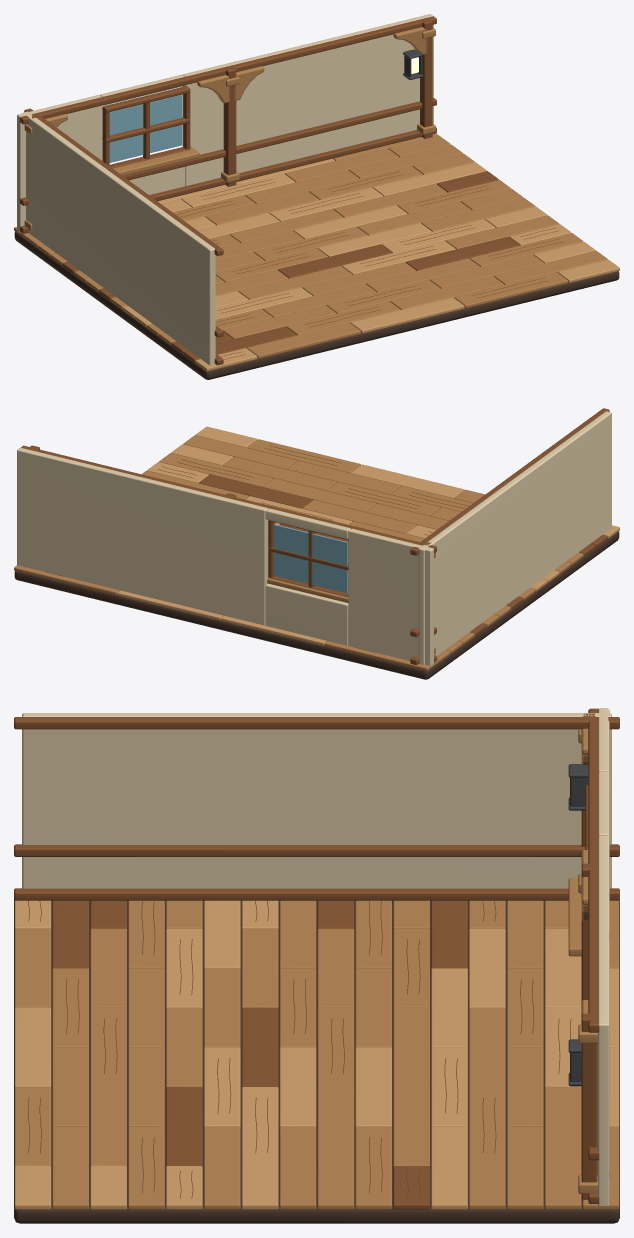
Rendered from home_shell.glb.
3 views of the same model, one above another, from view 1: azimuth 30°, elevation 25°; view 2: azimuth 150°, elevation 25°; view 3: azimuth 270°, elevation 25° (orthographic). The views are drawn at different scales.
Visible parts, largest first — view 1: left plaster wall, wall beside window.001, foundation, back timber molding.002, window night glass, wall beside window, back timber molding.001, back timber molding, individual oak floorboard.069, individual oak floorboard.070, individual oak floorboard.068, individual oak floorboard.039 (+58 smaller); view 2: wall beside window.001, left plaster wall, wall beside window, foundation, wall below above window, window night glass, back timber molding.002, individual oak floorboard.065, individual oak floorboard.051, individual oak floorboard.056, individual oak floorboard.060, individual oak floorboard.069 (+21 smaller); view 3: left plaster wall, foundation, left timber molding.002, left timber molding, left timber molding.001, wall beside window.001, back timber molding.002, individual oak floorboard.039, individual oak floorboard.012, individual oak floorboard.030, individual oak floorboard.048, individual oak floorboard.066 (+71 smaller).
Boxes of the visible parts, left/top/right/bottom form: left plaster wall: left=22, top=111, right=215, bottom=365; wall beside window.001: left=182, top=14, right=433, bottom=185; foundation: left=14, top=231, right=619, bottom=379; back timber molding.002: left=20, top=16, right=436, bottom=124; window night glass: left=109, top=94, right=182, bottom=162; wall beside window: left=17, top=95, right=102, bottom=232; back timber molding.001: left=20, top=98, right=436, bottom=205; back timber molding: left=20, top=127, right=436, bottom=233; individual oak floorboard.069: left=350, top=297, right=464, bottom=333; individual oak floorboard.070: left=454, top=272, right=568, bottom=308; individual oak floorboard.068: left=247, top=322, right=360, bottom=358; individual oak floorboard.039: left=421, top=197, right=535, bottom=231; wall beside window.001: left=17, top=447, right=268, bottom=625; left plaster wall: left=418, top=411, right=611, bottom=664; wall beside window: left=348, top=528, right=433, bottom=666; foundation: left=14, top=531, right=619, bottom=679; wall below above window: left=265, top=583, right=348, bottom=645; window night glass: left=273, top=524, right=347, bottom=593; back timber molding.002: left=21, top=445, right=436, bottom=553; individual oak floorboard.065: left=287, top=460, right=400, bottom=494; individual oak floorboard.051: left=302, top=500, right=416, bottom=533; individual oak floorboard.056: left=263, top=478, right=376, bottom=512; individual oak floorboard.060: left=326, top=482, right=440, bottom=516; individual oak floorboard.069: left=351, top=464, right=464, bottom=498; left plaster wall: left=22, top=713, right=611, bottom=888; foundation: left=14, top=899, right=619, bottom=1223; left timber molding.002: left=14, top=717, right=619, bottom=729; left timber molding: left=14, top=888, right=619, bottom=900; left timber molding.001: left=14, top=844, right=619, bottom=856; wall beside window.001: left=598, top=835, right=609, bottom=1206; back timber molding.002: left=588, top=708, right=599, bottom=1032; individual oak floorboard.039: left=279, top=1126, right=316, bottom=1209; individual oak floorboard.012: left=507, top=1126, right=543, bottom=1209; individual oak floorboard.030: left=355, top=1126, right=391, bottom=1209; individual oak floorboard.048: left=204, top=1126, right=240, bottom=1209; individual oak floorboard.066: left=52, top=1126, right=88, bottom=1209.
Bounding box in the file's own units: 11.5 × 3.41 × 9.3.
